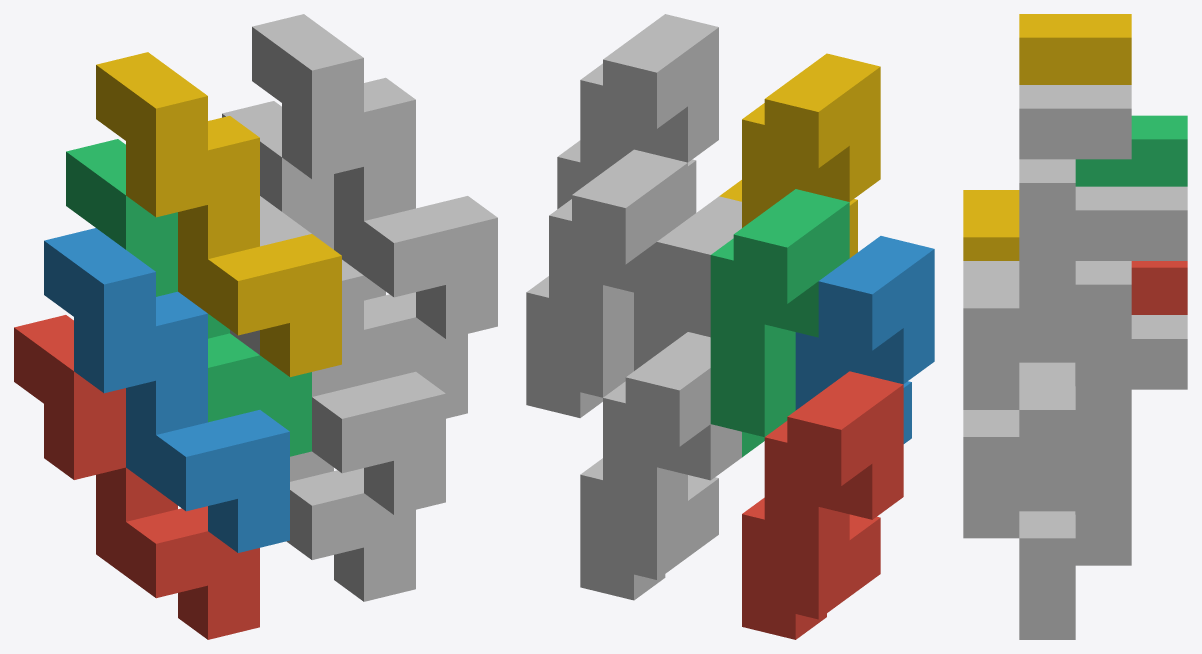
The model's file is tiling.obj.
3 views of the same model, side by side, from view 1: azimuth 30°, elevation 25°; view 2: azimuth 150°, elevation 25°; view 3: azimuth 270°, elevation 25° (orthographic). The views are drawn at different scales.
Parts seen in each view (by area): view 1: copy_1_domain_2, copy_1_domain_4, copy_1_domain_8, copy_1_domain_1, copy_1_domain_6, copy_1_domain_3, copy_1_domain_7, copy_1_domain_5; view 2: copy_1_domain_1, copy_1_domain_5, copy_1_domain_7, copy_1_domain_3, copy_1_domain_8, copy_1_domain_4, copy_1_domain_2, copy_1_domain_6; view 3: copy_1_domain_7, copy_1_domain_8, copy_1_domain_5, copy_1_domain_4, copy_1_domain_6, copy_1_domain_3, copy_1_domain_1.
Part boxes in pixels (x1,y1,x2,y2): copy_1_domain_2: [44, 228, 289, 552]; copy_1_domain_4: [96, 52, 341, 376]; copy_1_domain_8: [252, 14, 497, 338]; copy_1_domain_1: [14, 315, 259, 639]; copy_1_domain_6: [230, 196, 445, 514]; copy_1_domain_3: [66, 139, 311, 456]; copy_1_domain_7: [222, 101, 467, 418]; copy_1_domain_5: [286, 451, 415, 601]; copy_1_domain_1: [742, 371, 903, 639]; copy_1_domain_5: [580, 332, 741, 600]; copy_1_domain_7: [526, 149, 687, 417]; copy_1_domain_3: [710, 189, 849, 457]; copy_1_domain_8: [557, 14, 718, 218]; copy_1_domain_4: [719, 53, 880, 257]; copy_1_domain_2: [795, 236, 934, 443]; copy_1_domain_6: [634, 196, 741, 370]; copy_1_domain_7: [1019, 186, 1187, 511]; copy_1_domain_8: [963, 85, 1131, 409]; copy_1_domain_5: [1019, 315, 1187, 639]; copy_1_domain_4: [963, 14, 1131, 260]; copy_1_domain_6: [963, 335, 1075, 538]; copy_1_domain_3: [1075, 115, 1187, 186]; copy_1_domain_1: [1131, 261, 1187, 314].
Bounding box in the file's own units: 7 × 10 × 4.
